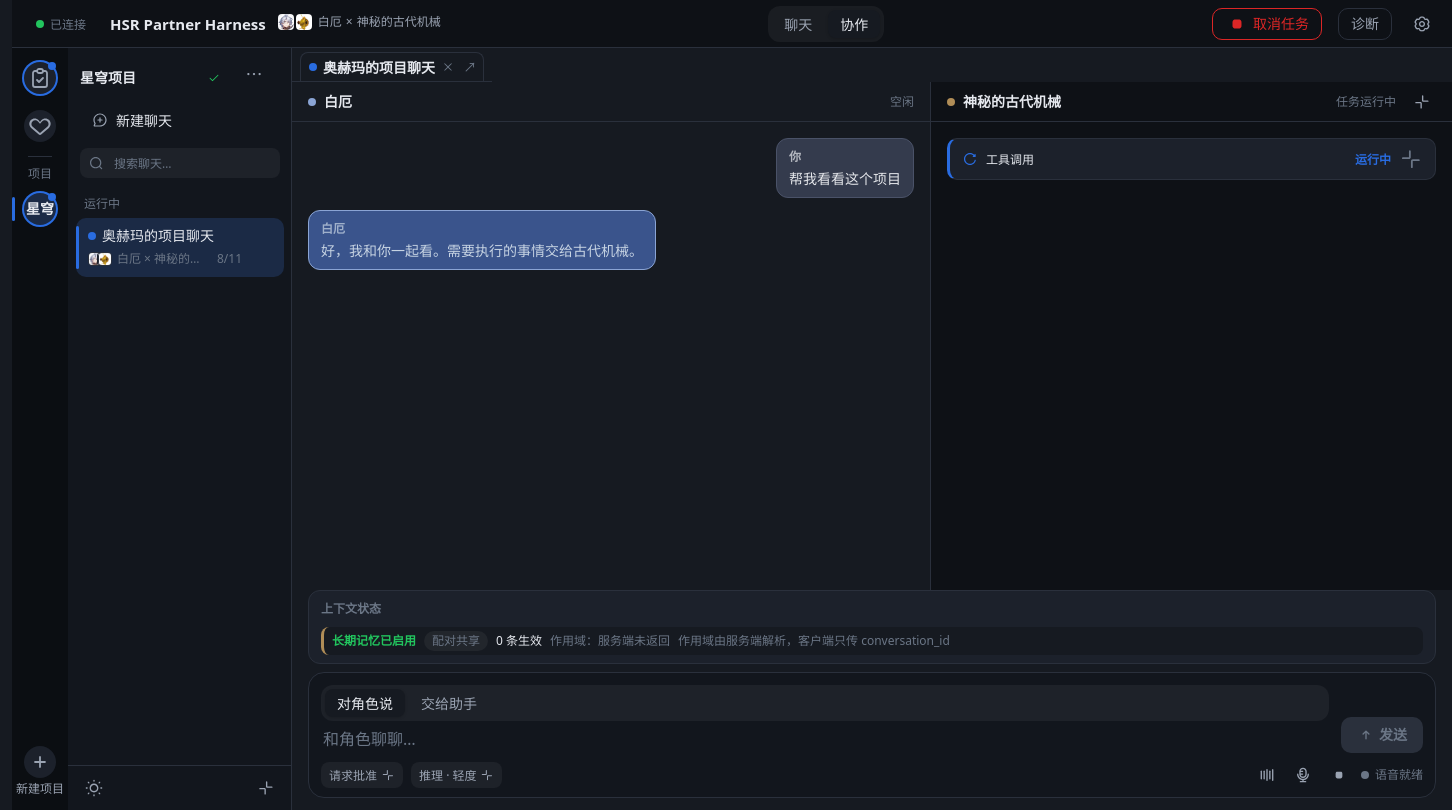
Test: AppShell 按 mock 场景渲染 › collaboration-running：双栏、工具卡片与取消任务
Expected: the text "任务运行中" is shown, [1336,92,1396,112]
Expected: the text "检查项目文件" is not shown
What coordinates should you click on to do the following:
click the button "工具调用 运行中"
I would click on:
 (1010, 161)
Its box is [950,139,1435,179].
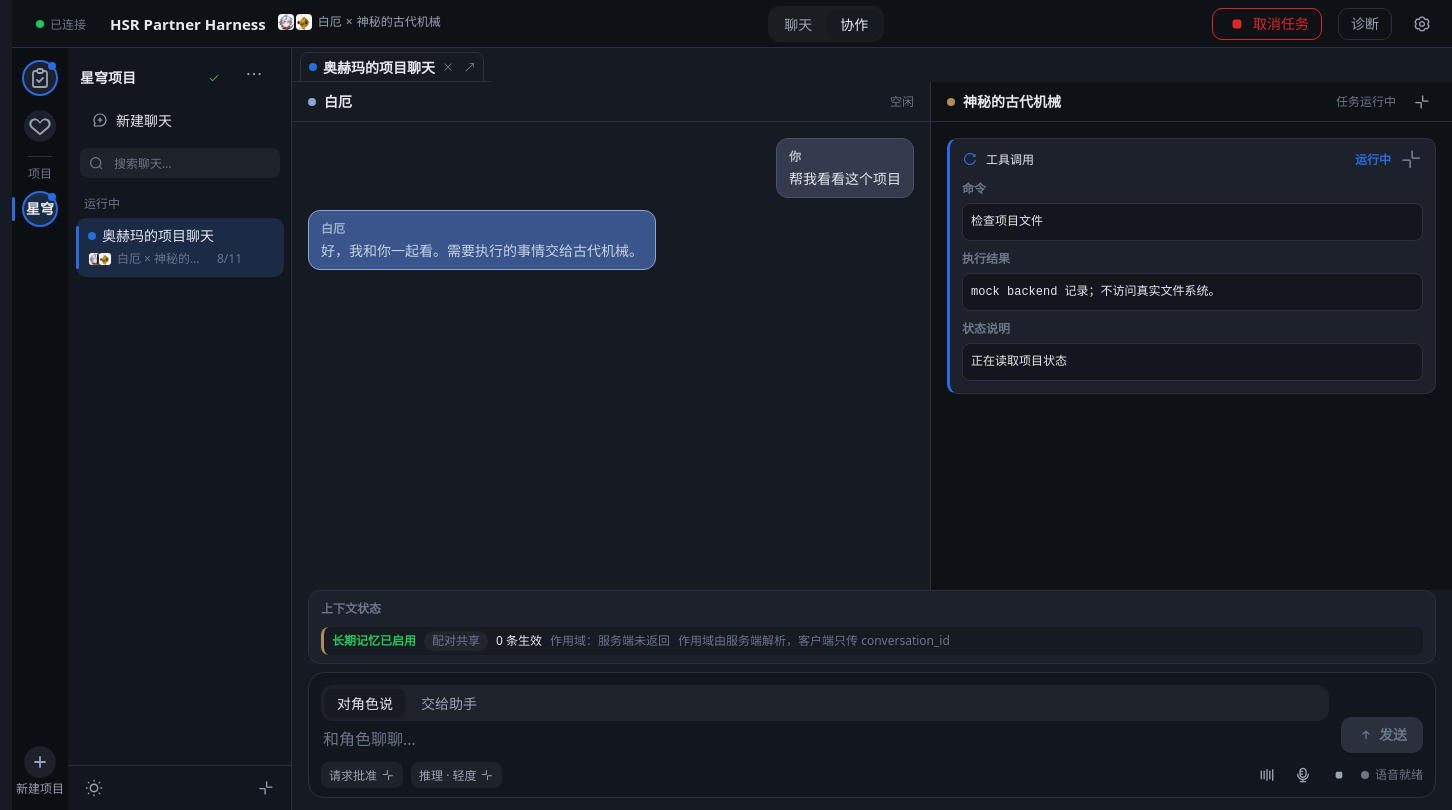
Expected: the button "取消任务" is enabled, [1212,8,1322,40]
Expected: the text "检查项目文件" is shown, [962,203,1423,241]
